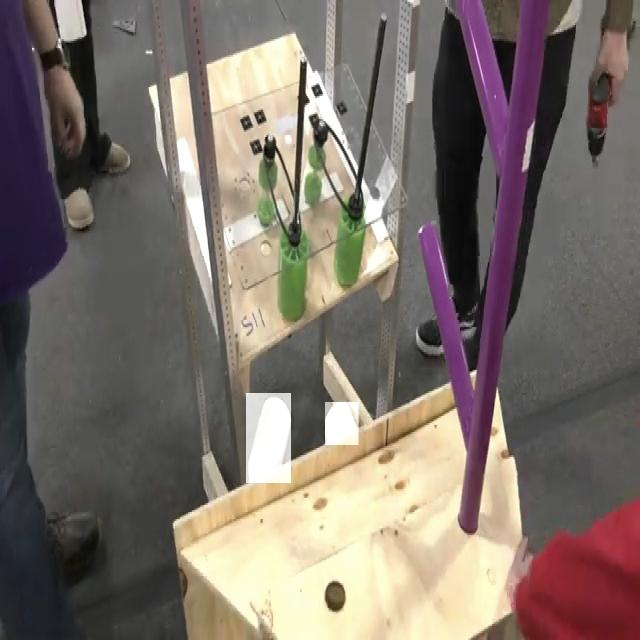Coral: (246, 393, 291, 483), (326, 402, 360, 445)
